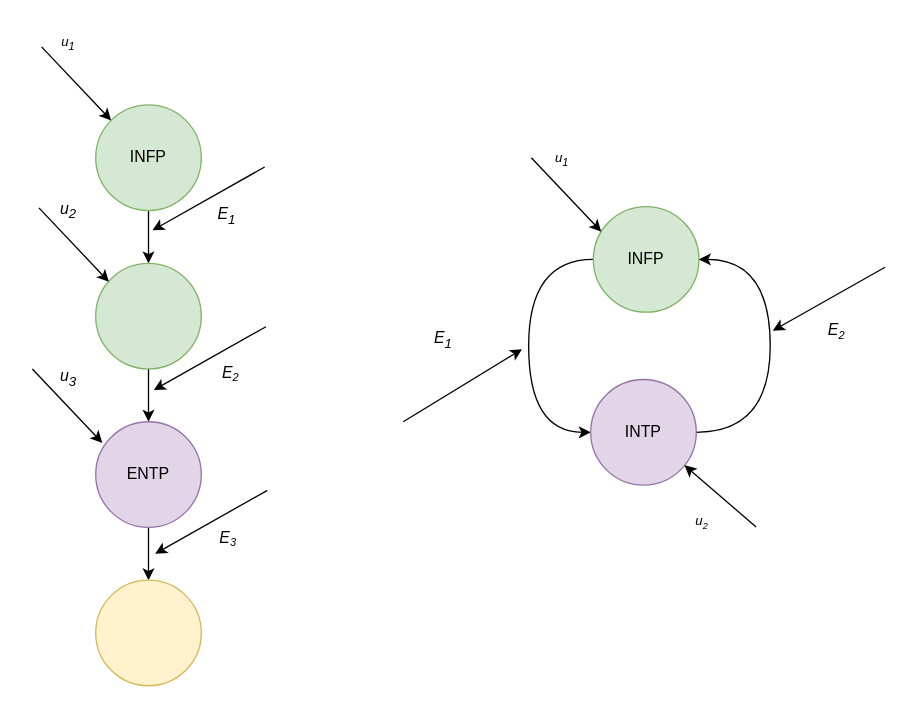
The diagram is 919 pixels wide and 709 high, and some of its shapes have lost their labels. The centre of each missing label's shape, as x and y in pixels:
ENFP: pixel 147 315
ESTP: pixel 147 632
